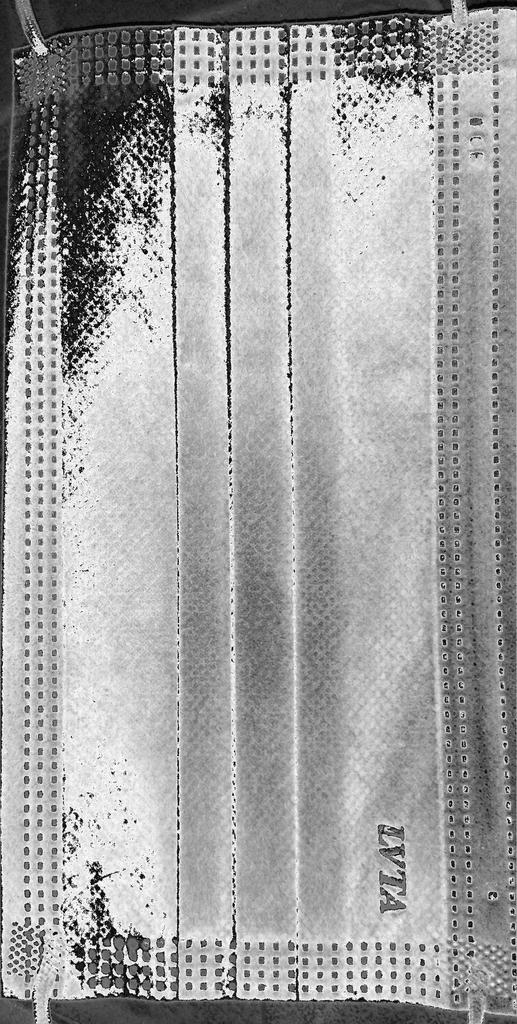High GSM: (10, 11, 442, 1003)
